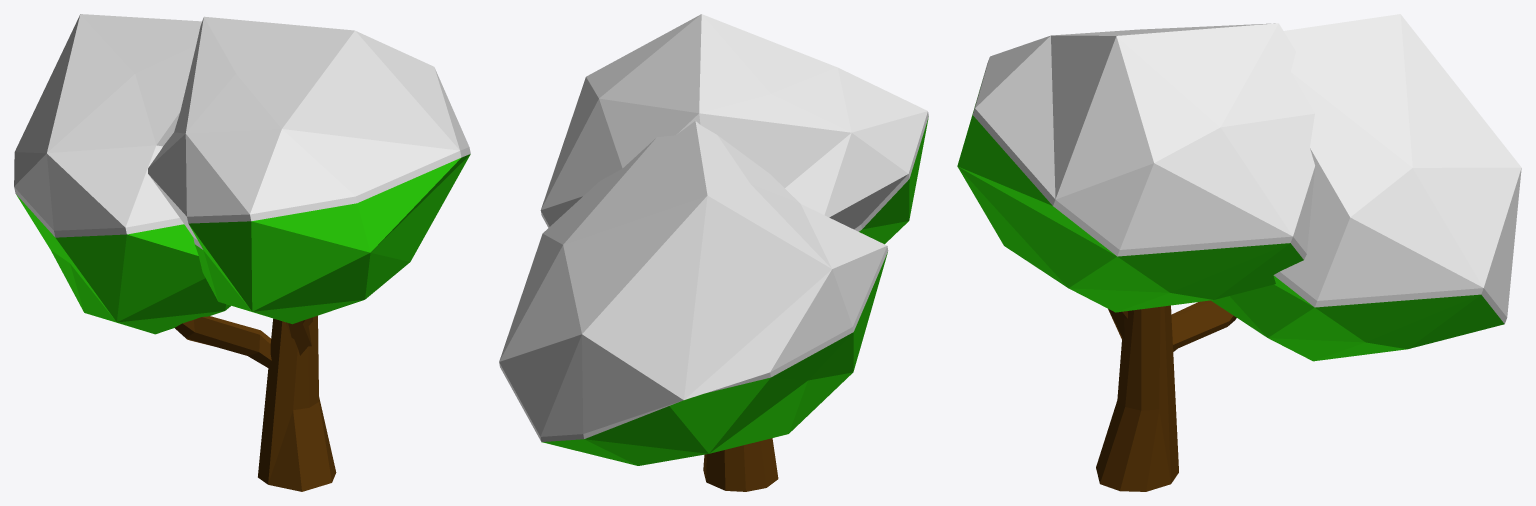
File: Bush#11_Snow.fbx
The picture shows the model from 3 angles, left to right: view 1: azimuth 30°, elevation 25°; view 2: azimuth 150°, elevation 25°; view 3: azimuth 270°, elevation 25°; orthographic projection. The views are drawn at different scales.
Visible parts, largest first — view 1: Bush#11_Snow; view 2: Bush#11_Snow; view 3: Bush#11_Snow.
Part boxes in pixels (box(x1,y1,x2,y2)): Bush#11_Snow: box(14, 14, 470, 491); Bush#11_Snow: box(499, 14, 928, 491); Bush#11_Snow: box(957, 14, 1521, 491).
Bounding box in the file's own units: 132 × 162 × 179.
